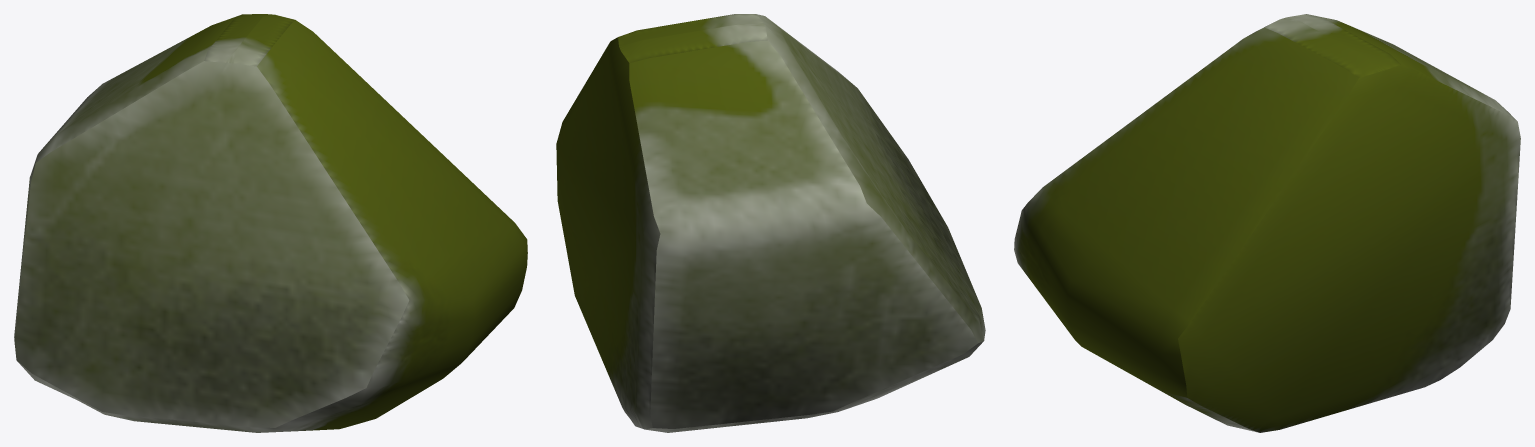
File: rock9_unity.fbx
3 renders of one model, left to right at view 1: azimuth 30°, elevation 25°; view 2: azimuth 150°, elevation 25°; view 3: azimuth 270°, elevation 25°, orthographic. The views are drawn at different scales.
Visible parts, largest first — view 1: Object014; view 2: Object014; view 3: Object014.
Part boxes in pixels (left/top/right/bottom): Object014: left=14, top=14, right=527, bottom=432; Object014: left=556, top=14, right=985, bottom=432; Object014: left=1014, top=14, right=1520, bottom=432.
Size of the model in its own units: 19.07 by 18.18 by 13.68.
1 material, 1 textured.
